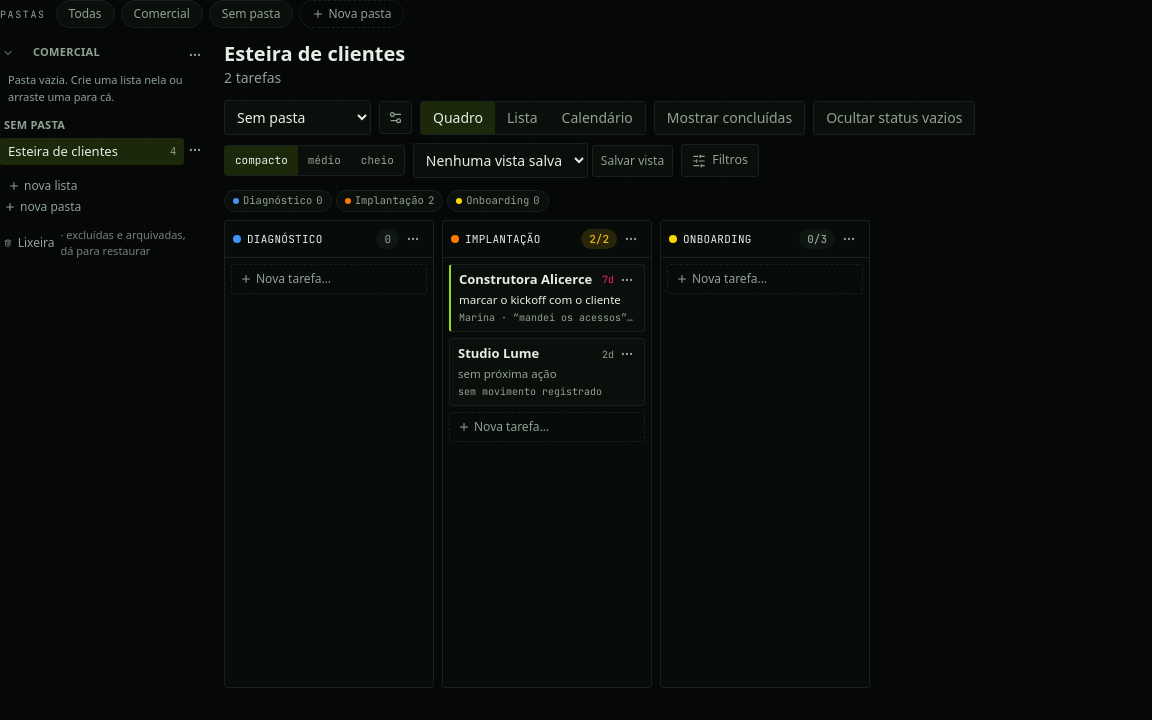
Test: quadro denso na tela › "meus" deixa só o que é da pessoa da sessão
Expected: the text "sem movimento registrado" is shown, [458,385,602,398]
Rodada da interface (U2): o recorte do quadro mora no painel de "Filtros".
Step 1. Click the button with test id "trabalho-filtros-botao" → {"x": 720, "y": 160}, box [681,144,759,177]
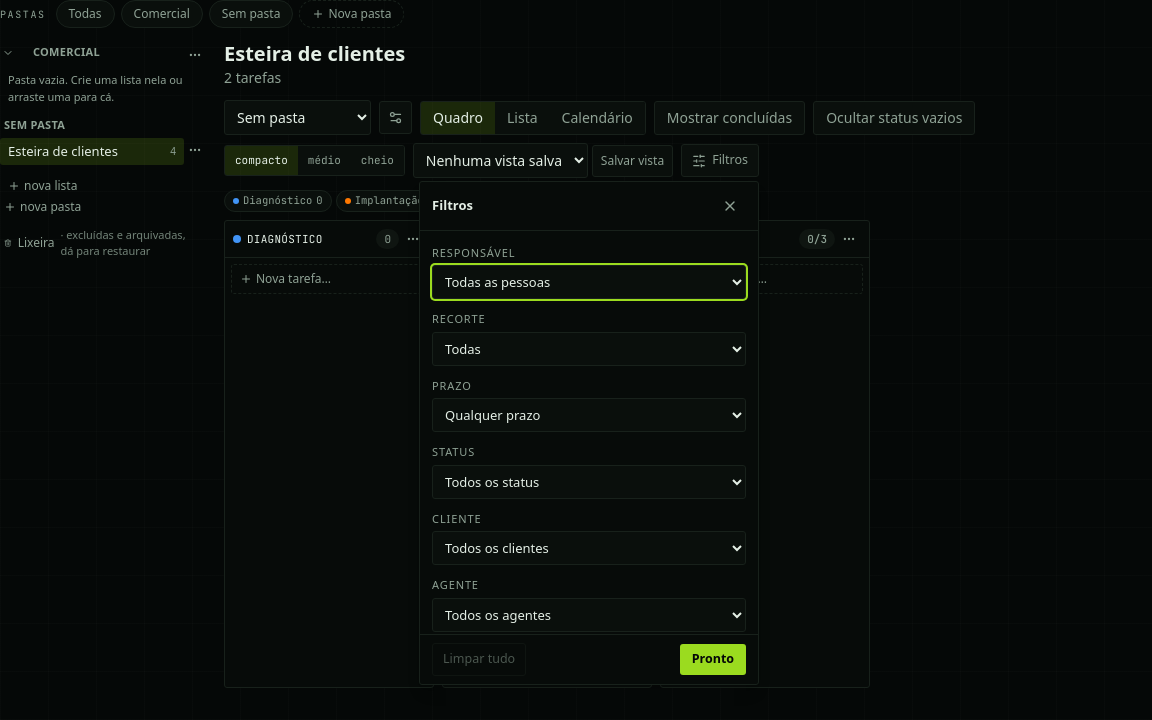
Step 2. Select "Só as minhas" in the dropdown with test id "trabalho-filtros-escopo" → {"x": 589, "y": 349}, box [432,332,746,366]
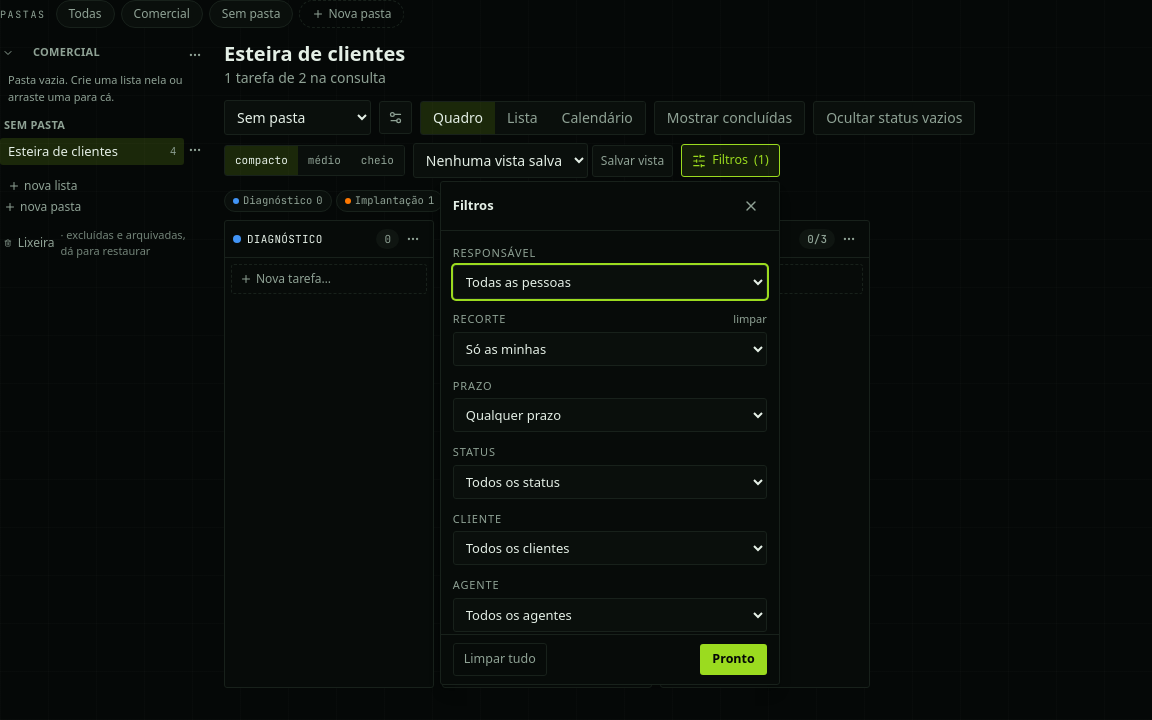
Expected: the text "Marina · “mandei os acessos” · há 1d" is shown, [459,310,636,325]
Expected: the text with test id "trabalho-rodape-t-lume" is gone
